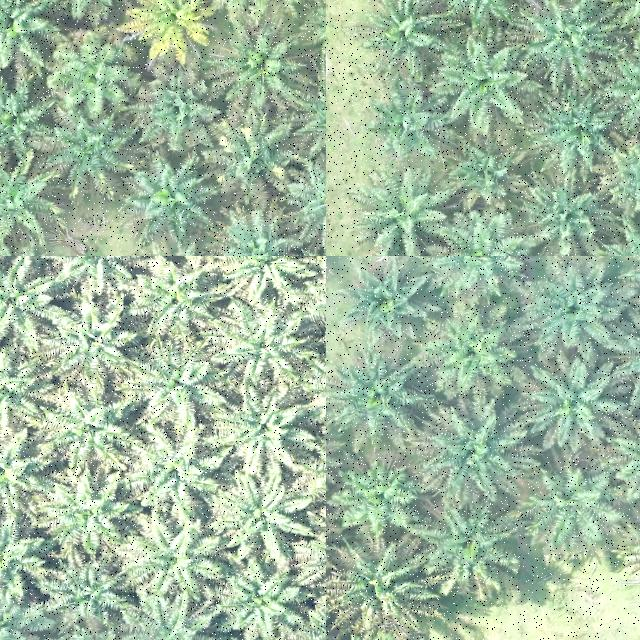Ganoderma: (145, 0, 202, 42)
